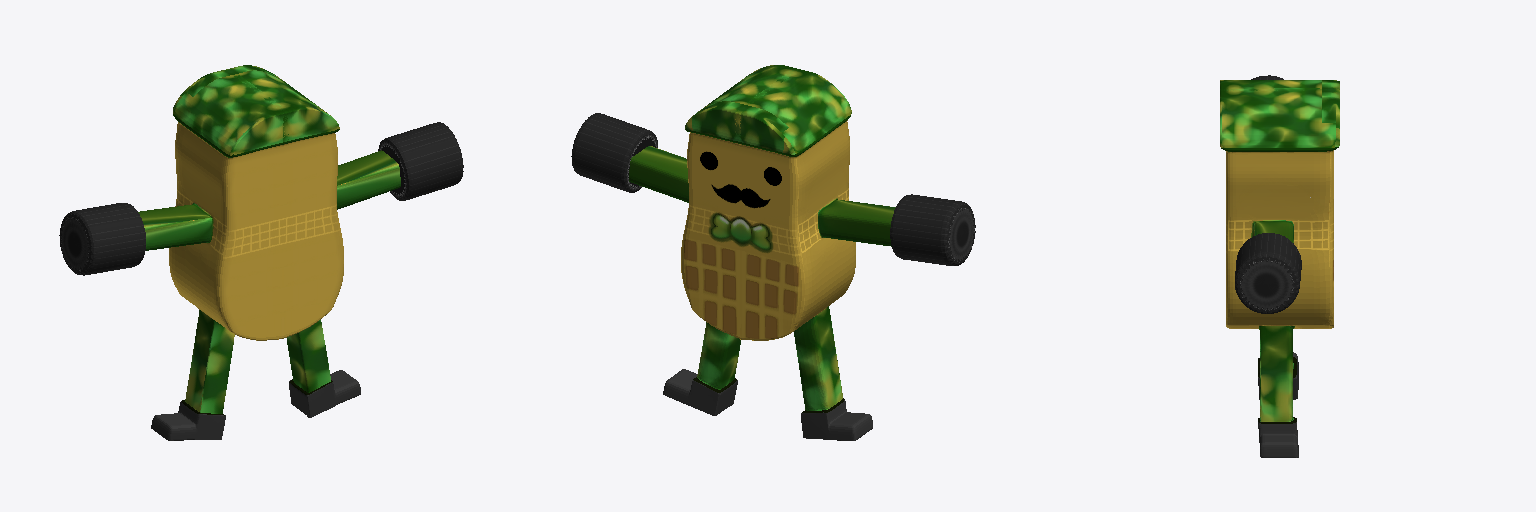
3 views of the same model, side by side, from view 1: azimuth 30°, elevation 25°; view 2: azimuth 150°, elevation 25°; view 3: azimuth 270°, elevation 25° (orthographic).
Parts seen in each view (by area): view 1: Cube; view 2: Cube; view 3: Cube.
Part boxes in pixels (left/top/right/bottom): Cube: left=59, top=65, right=463, bottom=440; Cube: left=571, top=65, right=975, bottom=440; Cube: left=1220, top=75, right=1339, bottom=457.
Bounding box in the file's own units: 8.11 × 6.8 × 2.24.
Materials: 1 (1 with a texture image).